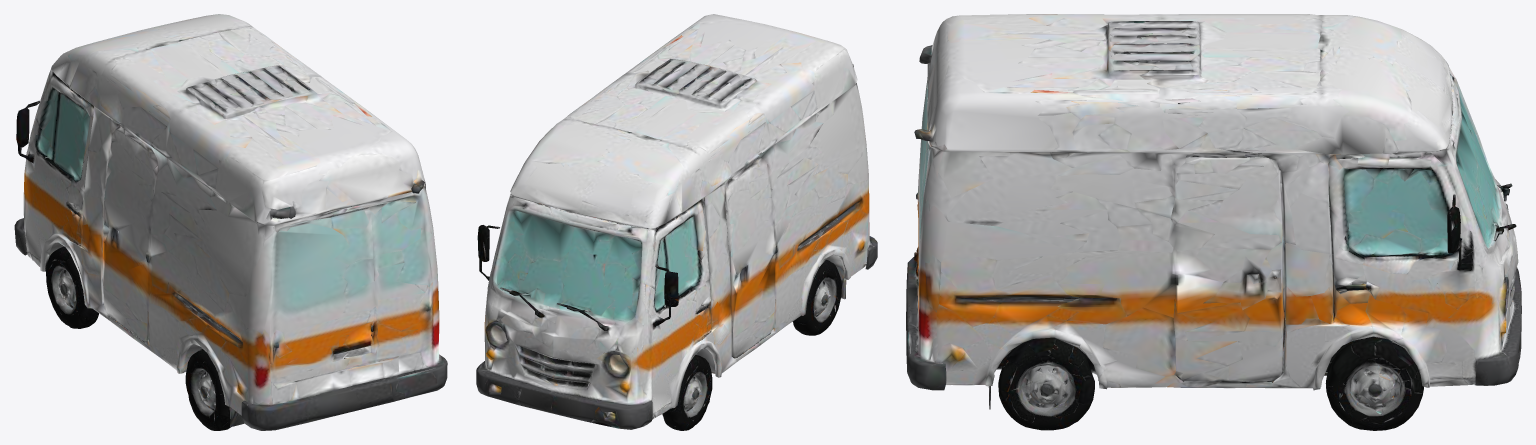
File: van.glb
The picture shows the model from 3 angles, left to right: view 1: azimuth 30°, elevation 25°; view 2: azimuth 150°, elevation 25°; view 3: azimuth 270°, elevation 25°; orthographic projection. The views are drawn at different scales.
Bounding box in the file's own units: 0.9051 × 1.15 × 1.9.
Materials: 1 (1 with a texture image).
